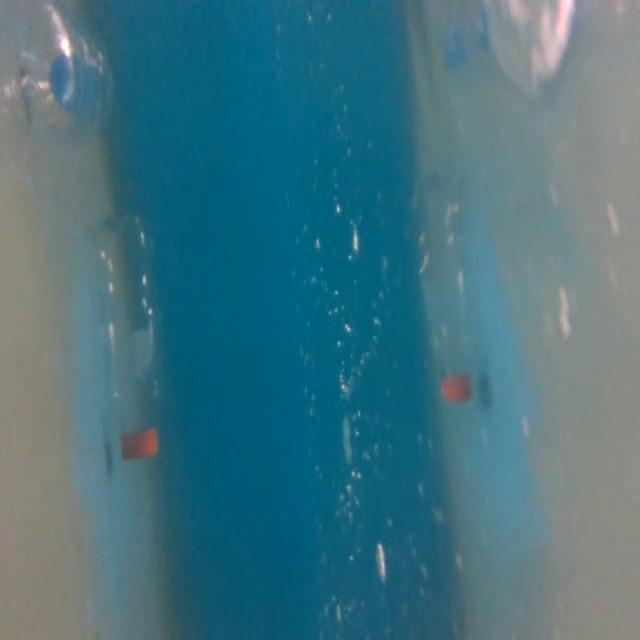plastic bottle: (87, 199, 177, 467)
